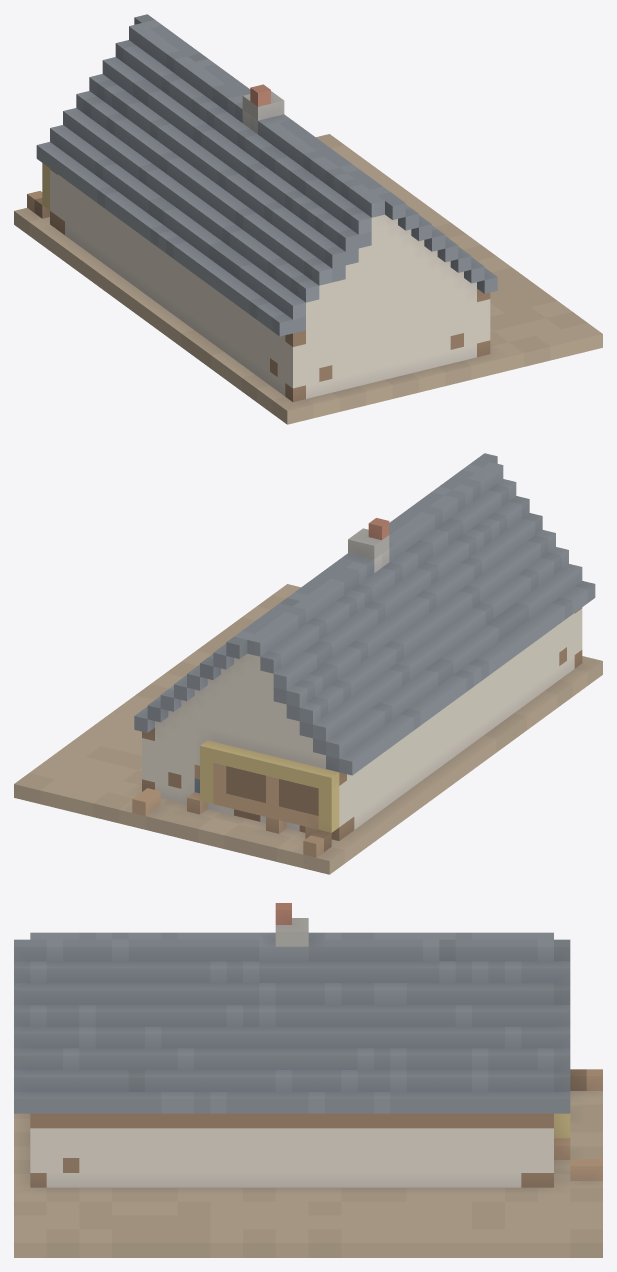
File: winepress.lite.glb
3 renders of one model, top to bottom at view 1: azimuth 30°, elevation 25°; view 2: azimuth 150°, elevation 25°; view 3: azimuth 270°, elevation 25°, orthographic. The views are drawn at different scales.
Visible parts, largest first — view 1: winepress; view 2: winepress; view 3: winepress.
Boxes of the visible parts, x1,y1,x2,y2 form: winepress: (14, 14, 602, 424); winepress: (14, 453, 602, 874); winepress: (14, 903, 602, 1257).
Size of the model in its own units: 6 by 4 by 9.
